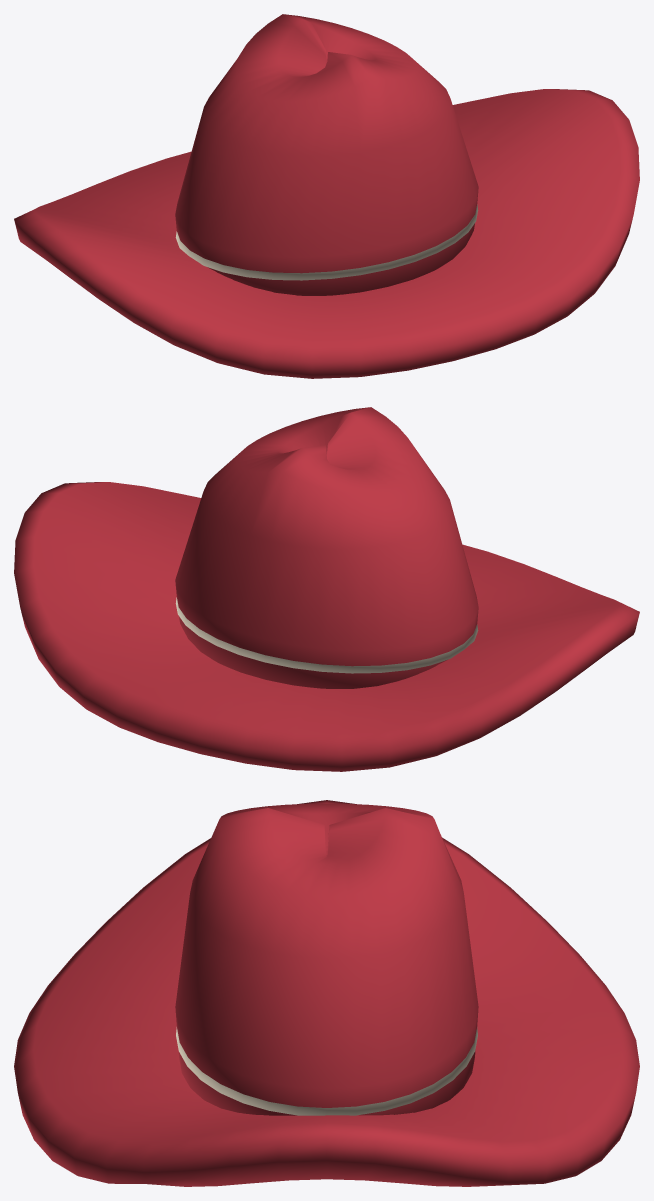
The model's file is ACC_TH_WILD_WEST_Primary.fbx.
3 renders of one model, top to bottom at view 1: azimuth 30°, elevation 25°; view 2: azimuth 150°, elevation 25°; view 3: azimuth 270°, elevation 25°, orthographic. The views are drawn at different scales.
Parts seen in each view (by area): view 1: ACC_TH_WILD_WEST_Primary; view 2: ACC_TH_WILD_WEST_Primary; view 3: ACC_TH_WILD_WEST_Primary.
Part boxes in pixels (x1,y1,x2,y2): ACC_TH_WILD_WEST_Primary: [14, 14, 639, 378]; ACC_TH_WILD_WEST_Primary: [14, 407, 639, 771]; ACC_TH_WILD_WEST_Primary: [14, 800, 639, 1186].
Bounding box in the file's own units: 128 × 55 × 99.84.
